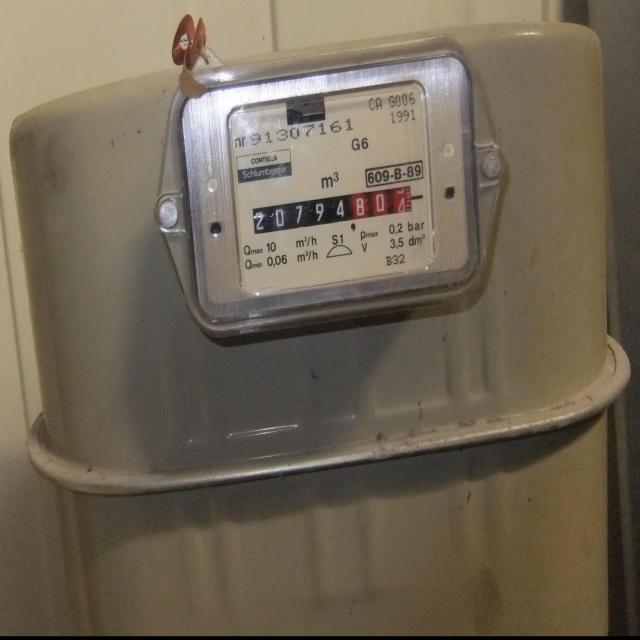gaz_meter: (225, 102, 442, 291)
indication: (249, 183, 411, 237)
